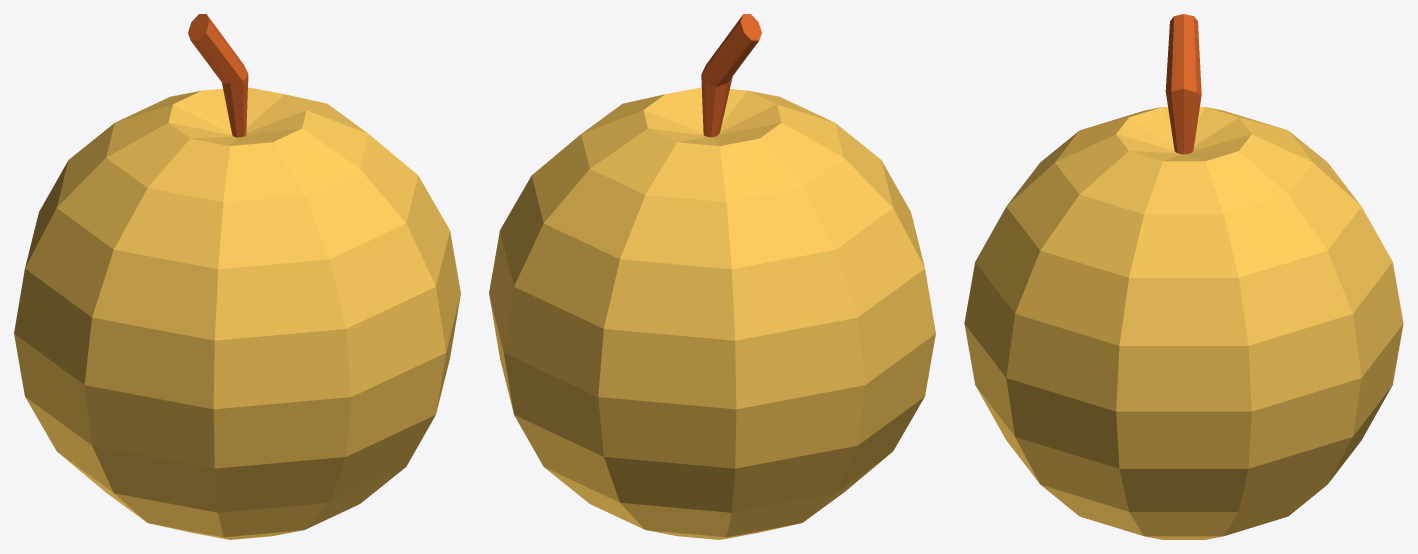
Rendered from apple.fbx.
3 renders of one model, left to right at view 1: azimuth 30°, elevation 25°; view 2: azimuth 150°, elevation 25°; view 3: azimuth 270°, elevation 25°, orthographic. The views are drawn at different scales.
Parts seen in each view (by area): view 1: Сфера, Конус; view 2: Сфера, Конус; view 3: Сфера, Конус.
Boxes of the visible parts, x1=… form: Сфера: x1=14, y1=87, x2=460, y2=539; Конус: x1=188, y1=14, x2=248, y2=137; Сфера: x1=489, y1=87, x2=935, y2=539; Конус: x1=701, y1=14, x2=761, y2=137; Сфера: x1=964, y1=107, x2=1403, y2=539; Конус: x1=1165, y1=14, x2=1201, y2=154.
Size of the model in its own units: 190 by 243 by 200.
